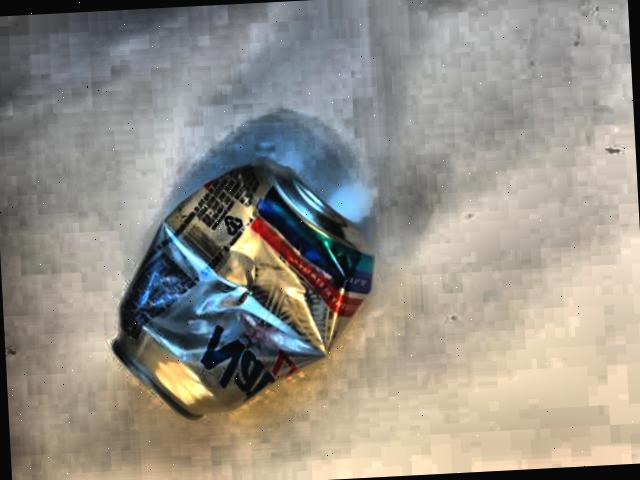Bottles: (79, 139, 377, 434)
